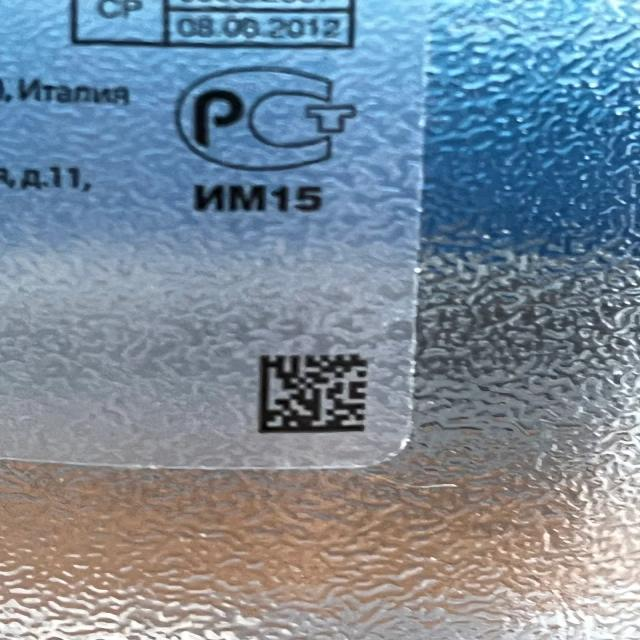datamatrix: (257, 352, 369, 435)
